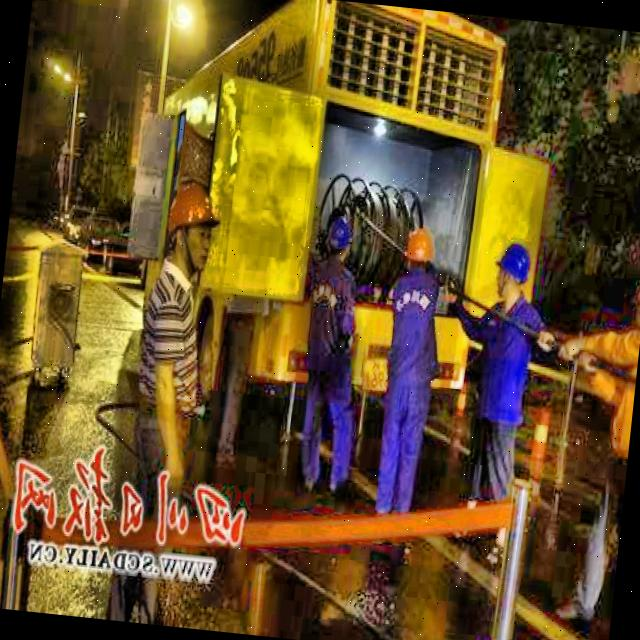helmet: (158, 172, 226, 280), (492, 236, 536, 305), (399, 222, 438, 282), (320, 208, 358, 262)
